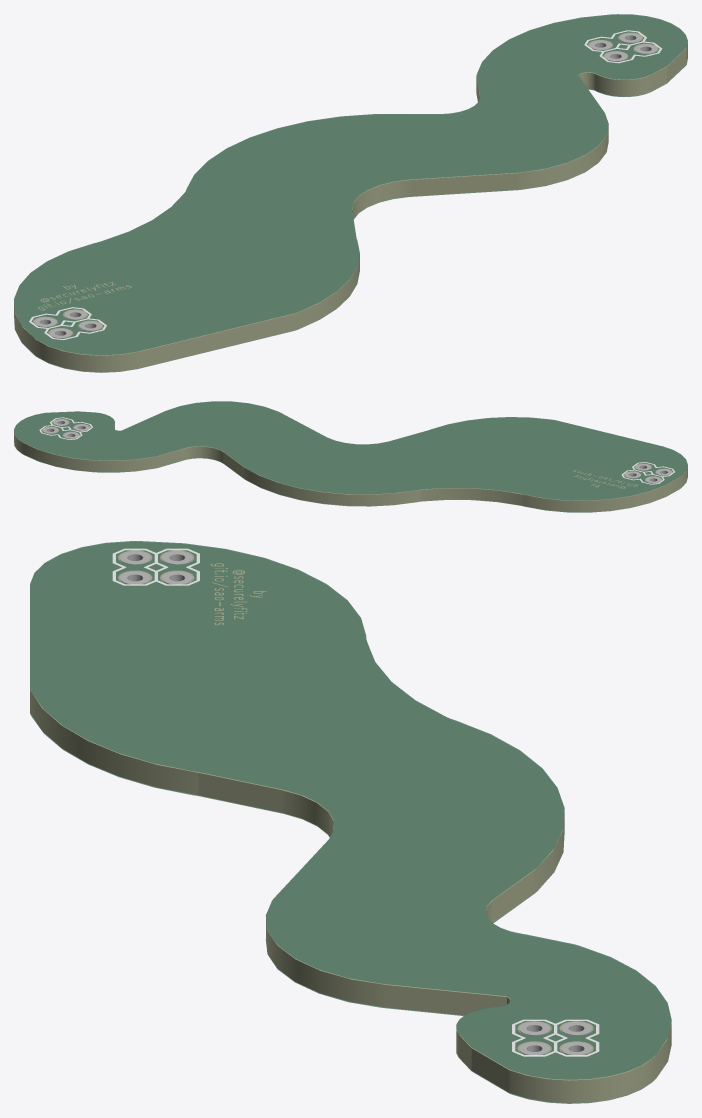
The model's file is sao-arms-human-robo1-robo2-tent1-tent2-bug1-bug2.glb.
The picture shows the model from 3 angles, top to bottom: view 1: azimuth 30°, elevation 25°; view 2: azimuth 150°, elevation 25°; view 3: azimuth 270°, elevation 25°; orthographic projection. The views are drawn at different scales.
Parts seen in each view (by area): view 1: =>[0:1:1:6], =>[0:1:1:4], =>[0:1:1:2], =>[0:1:1:3]; view 2: =>[0:1:1:6], =>[0:1:1:4], =>[0:1:1:2], =>[0:1:1:3]; view 3: =>[0:1:1:6], =>[0:1:1:4], =>[0:1:1:2], =>[0:1:1:3].
Part boxes in pixels (box(x1,y1,x2,y2)): =>[0:1:1:6]: box(14, 15, 687, 372); =>[0:1:1:4]: box(14, 14, 687, 372); =>[0:1:1:2]: box(34, 33, 657, 338); =>[0:1:1:3]: box(29, 30, 662, 340); =>[0:1:1:6]: box(14, 402, 687, 512); =>[0:1:1:4]: box(14, 401, 687, 512); =>[0:1:1:2]: box(43, 419, 671, 483); =>[0:1:1:3]: box(39, 417, 674, 484); =>[0:1:1:6]: box(30, 542, 671, 1102); =>[0:1:1:4]: box(30, 541, 671, 1103); =>[0:1:1:2]: box(119, 551, 591, 1054); =>[0:1:1:3]: box(112, 548, 599, 1056).
Size of the model in its own units: 0.077 by 0.00163 by 0.0388.
